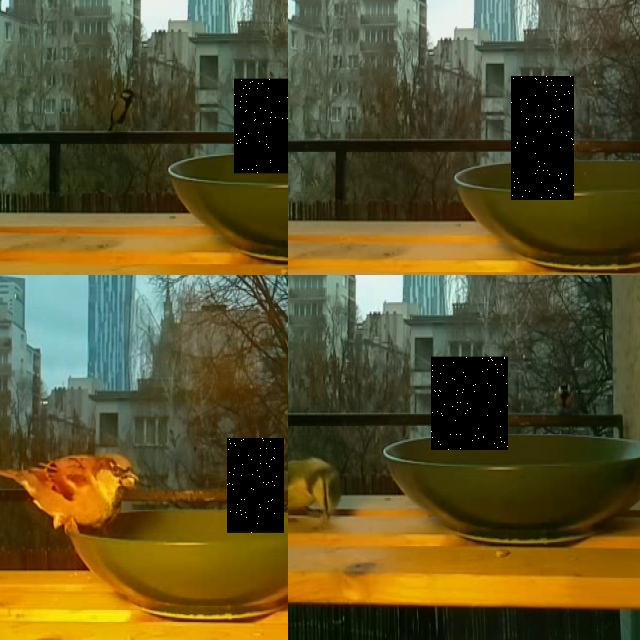Bogatka: (431, 357, 508, 450), (227, 438, 284, 533)
Modraszka: (234, 78, 288, 173), (288, 452, 348, 532)
Wrobel: (0, 445, 142, 539), (511, 76, 574, 200)
